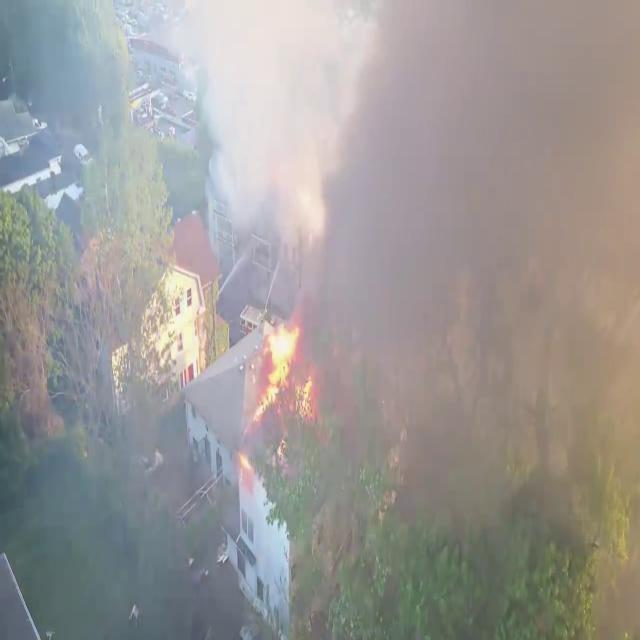Fire: (256, 304, 314, 421)
Smoke: (172, 0, 640, 564)
